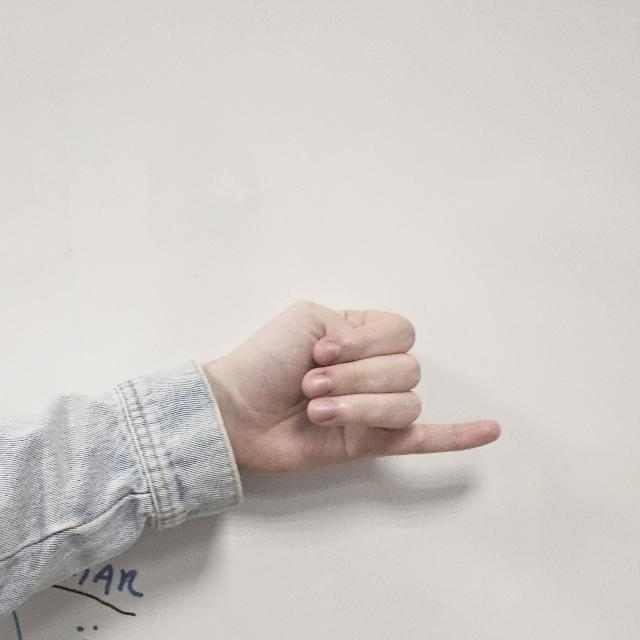Esquerda: (238, 282, 522, 476)
